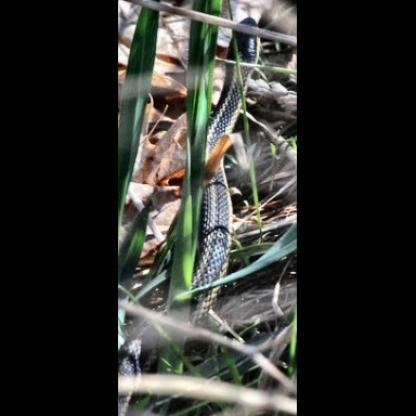Snake: (178, 16, 262, 317)
